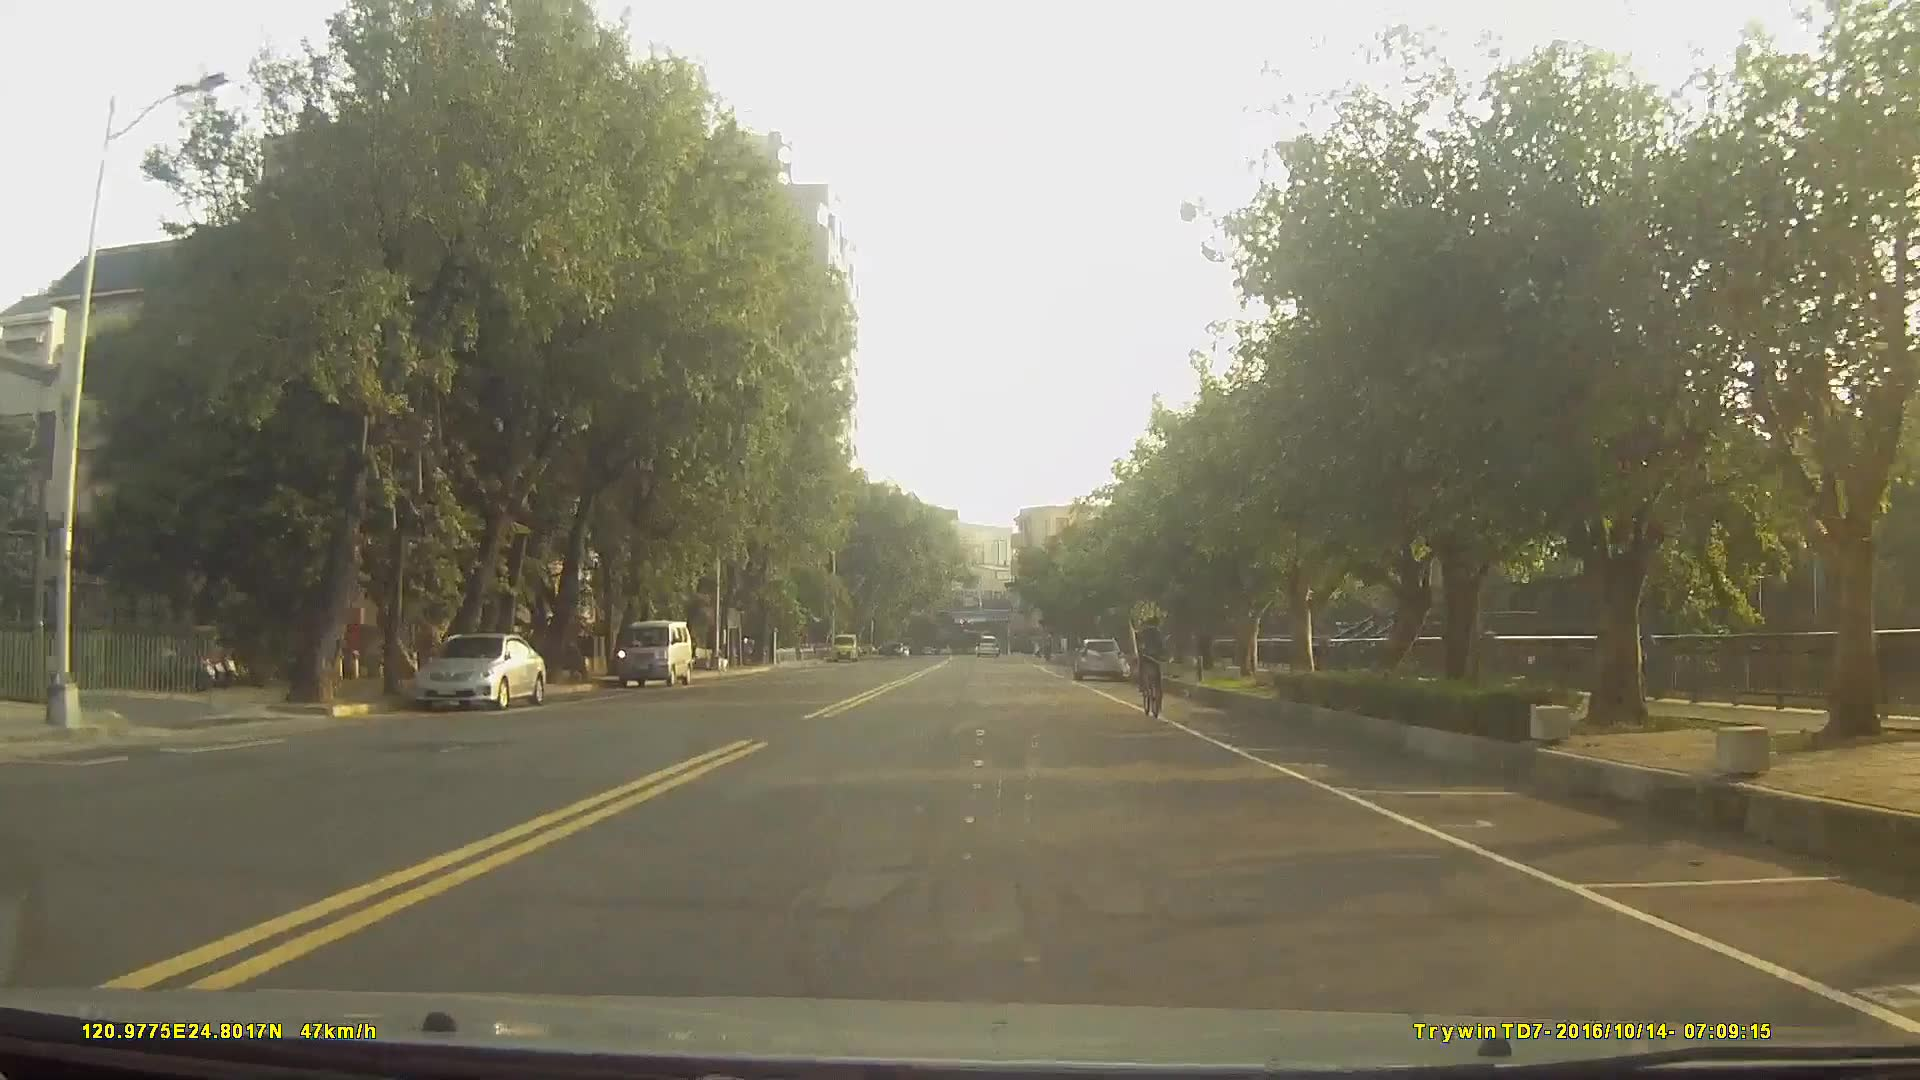rider: (1136, 613, 1172, 717)
vehicle: (408, 628, 545, 709), (615, 616, 692, 683), (1071, 632, 1125, 678), (975, 631, 1000, 657)
